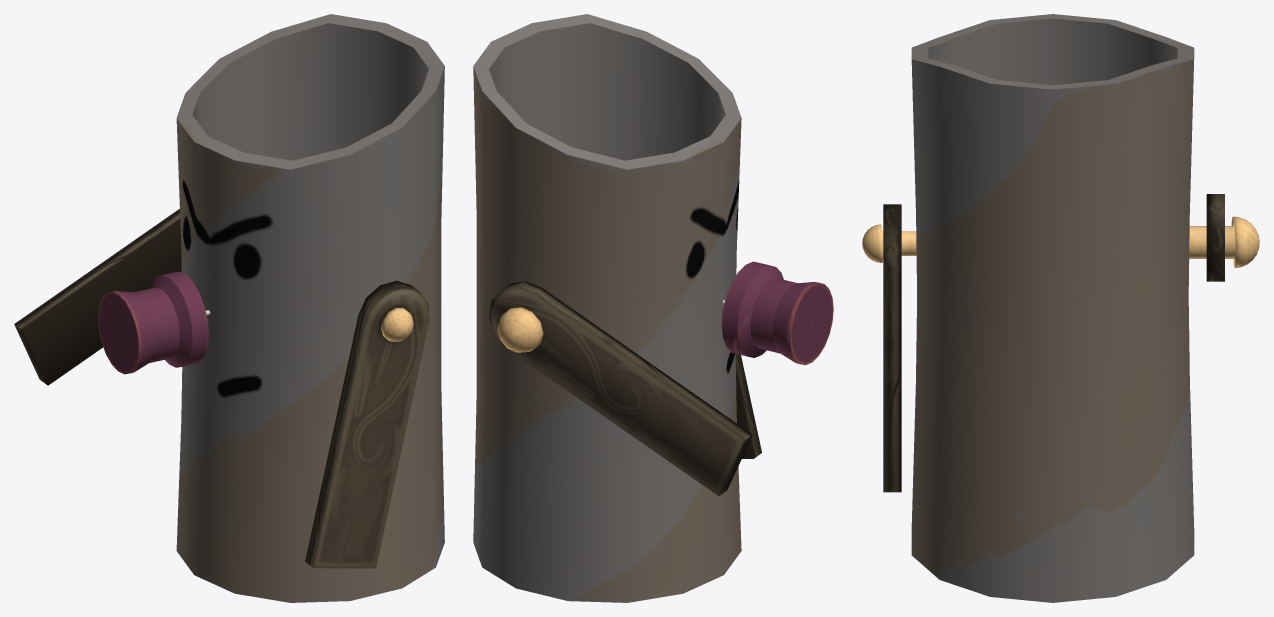
The model's file is Soldado.fbx.
The picture shows the model from 3 angles, left to right: view 1: azimuth 30°, elevation 25°; view 2: azimuth 150°, elevation 25°; view 3: azimuth 270°, elevation 25°; orthographic projection. The views are drawn at different scales.
Visible parts, largest first — view 1: Soldadito1; view 2: Soldadito1; view 3: Soldadito1.
Boxes of the visible parts, x1,y1,x2,y2 form: Soldadito1: (14, 14, 444, 602); Soldadito1: (473, 14, 833, 602); Soldadito1: (862, 14, 1259, 602).
Size of the model in its own units: 64.37 by 87.94 by 61.71.
